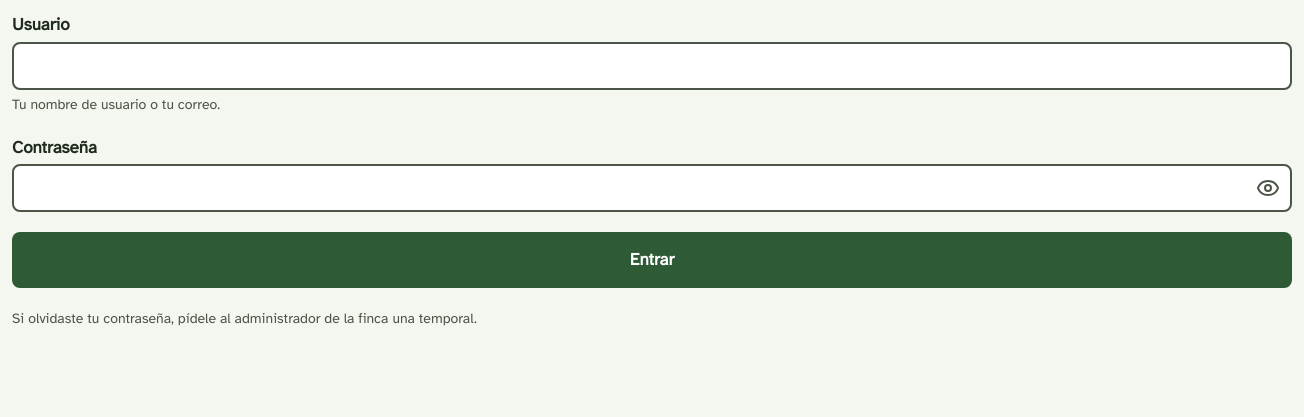
LoginForm › ante RATE_LIMITED (429) muestra «Demasiadas solicitudes. Espera un momento.»
Type "alvaro" into the field labelled "Usuario".
click(652, 66); type("alvaro")  # box [12,42,1292,90]
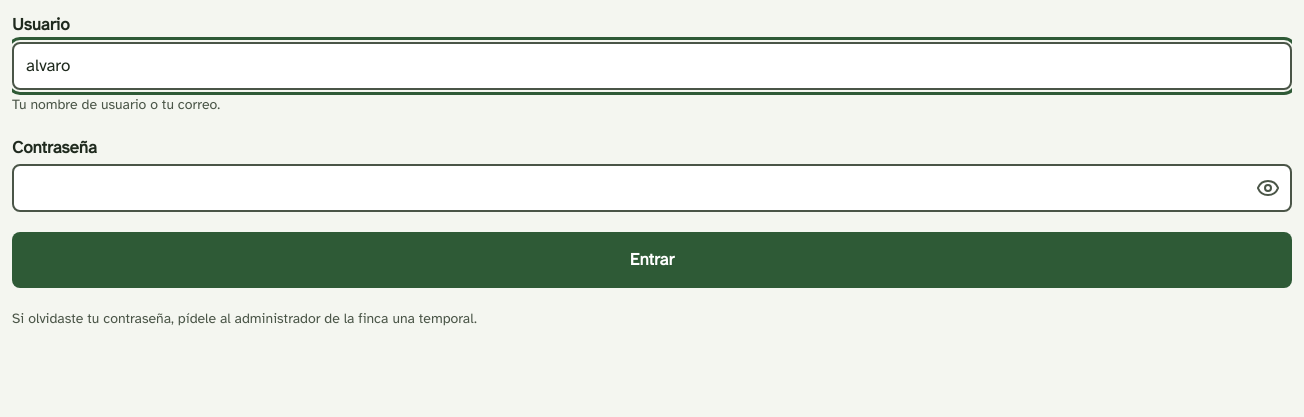
Type "clave-secreta" into the password field labelled "Contraseña".
click(652, 188); type("clave-secreta")  # box [12,164,1292,212]
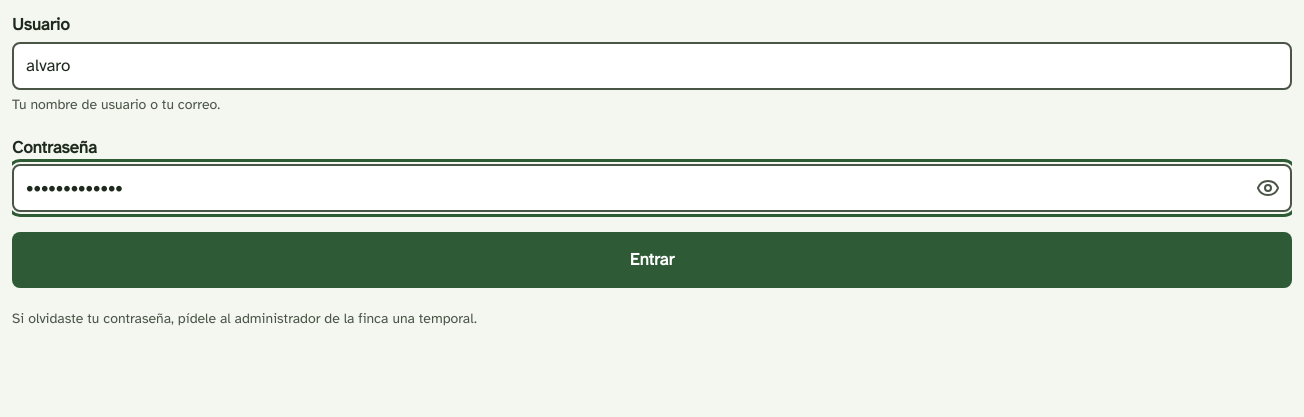
Click the button "Entrar".
click(652, 260)  # box [12,232,1292,288]
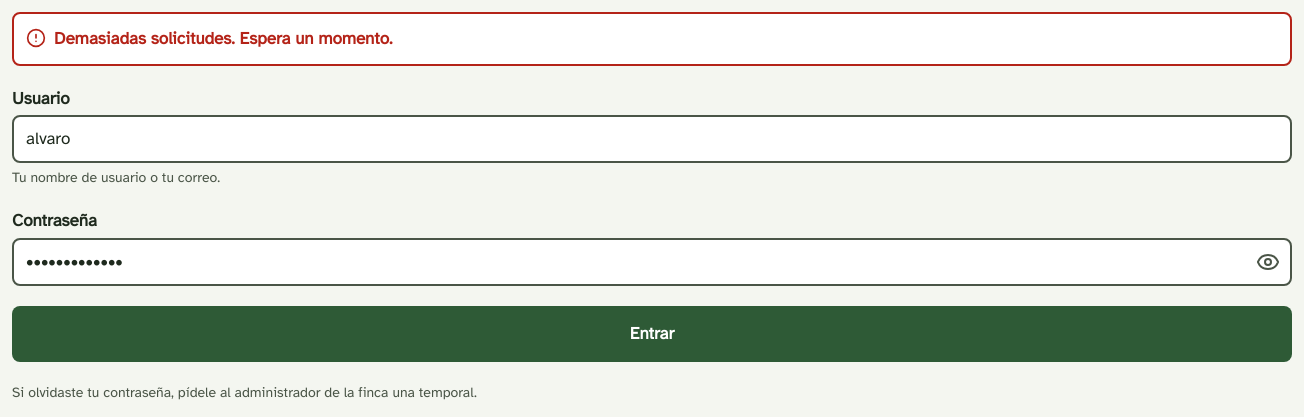
Expected: the message reads "Demasiadas solicitudes. Espera un momento.", [54,28,392,49]
